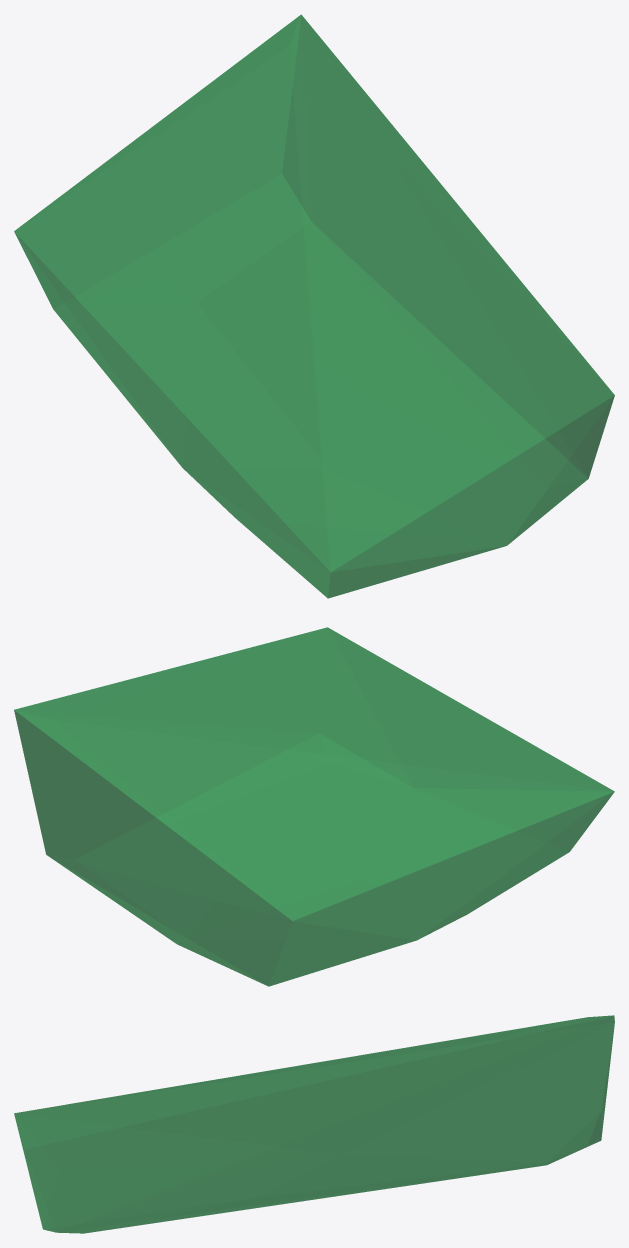
3 renders of one model, top to bottom at view 1: azimuth 30°, elevation 25°; view 2: azimuth 150°, elevation 25°; view 3: azimuth 270°, elevation 25°, orthographic. The views are drawn at different scales.
Visible parts, largest first — view 1: Shape_IndexedFaceSet.189_Shape_IndexedFaceSet.230; view 2: Shape_IndexedFaceSet.189_Shape_IndexedFaceSet.230; view 3: Shape_IndexedFaceSet.189_Shape_IndexedFaceSet.230.
Boxes of the visible parts, x1,y1,x2,y2 form: Shape_IndexedFaceSet.189_Shape_IndexedFaceSet.230: (14,14,614,598); Shape_IndexedFaceSet.189_Shape_IndexedFaceSet.230: (14,627,614,986); Shape_IndexedFaceSet.189_Shape_IndexedFaceSet.230: (14,1015,614,1233).
Size of the model in its own units: 0.1774 by 0.1721 by 0.3383.
